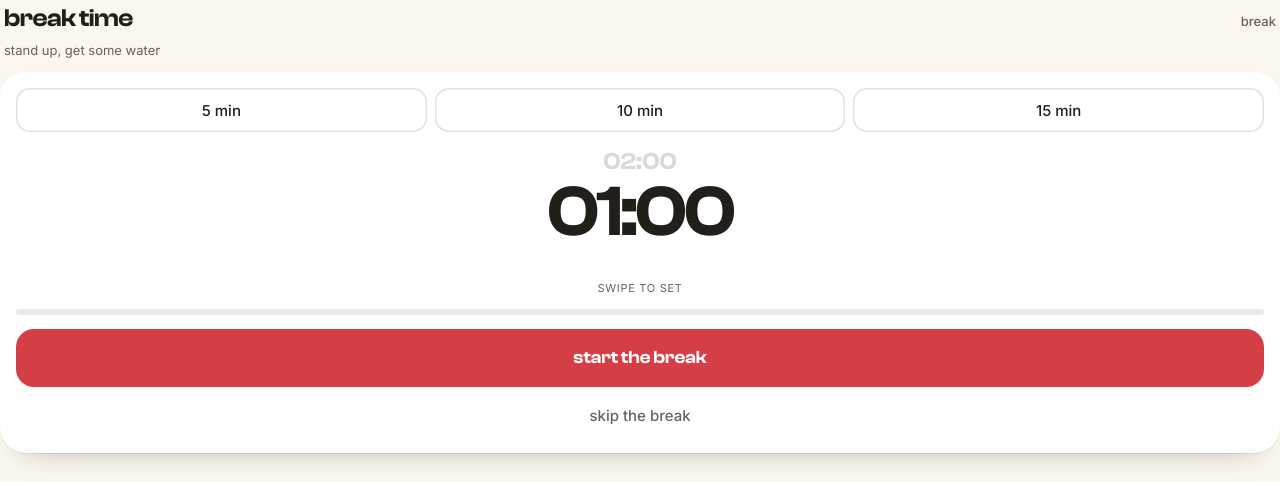
Test: the primary action › offers a new focus session when a break finishes
Click the button "start the break" at (640, 358), box [16,329,1264,387]
Wait 60300 ms
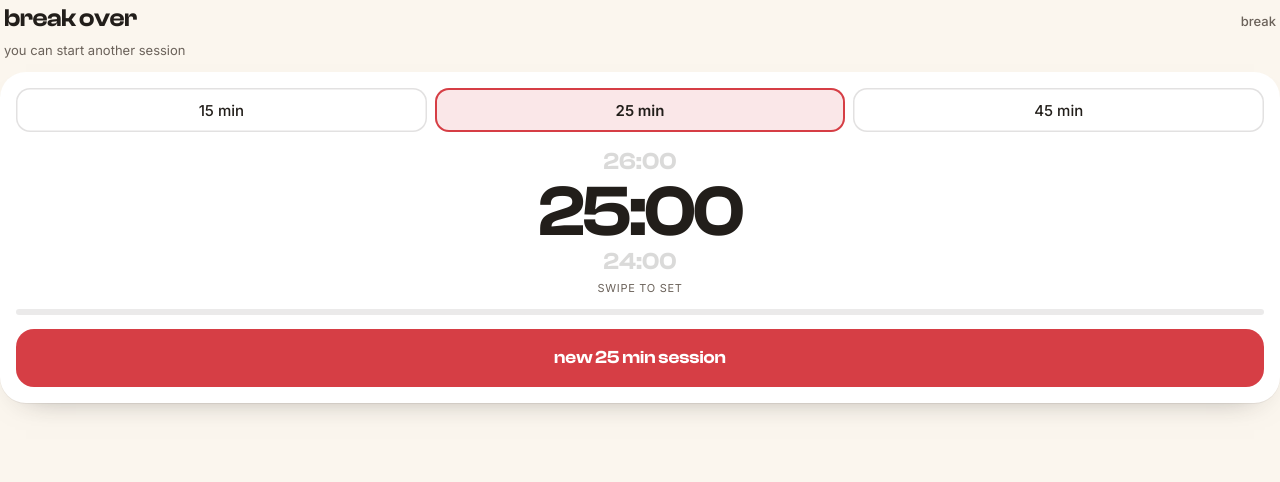
Check: the heading "break over" is shown, box [4,4,137,32]
Click the button "new 25 min session" at (640, 358), box [16,329,1264,387]
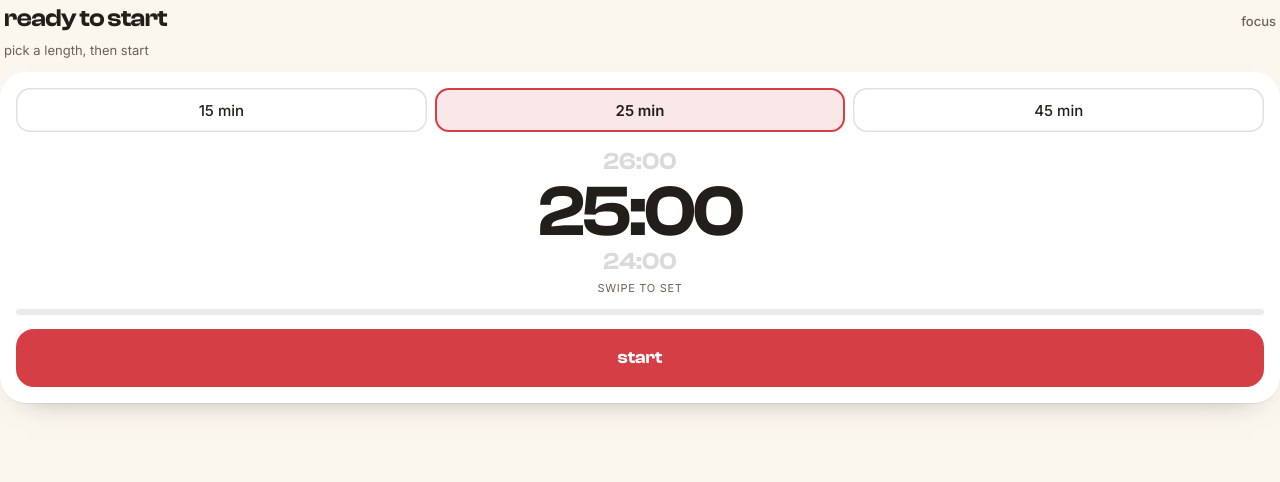
Check: the heading "ready to start" is shown, box [4,0,167,38]
Check: the button "start" is shown, box [16,329,1264,387]
